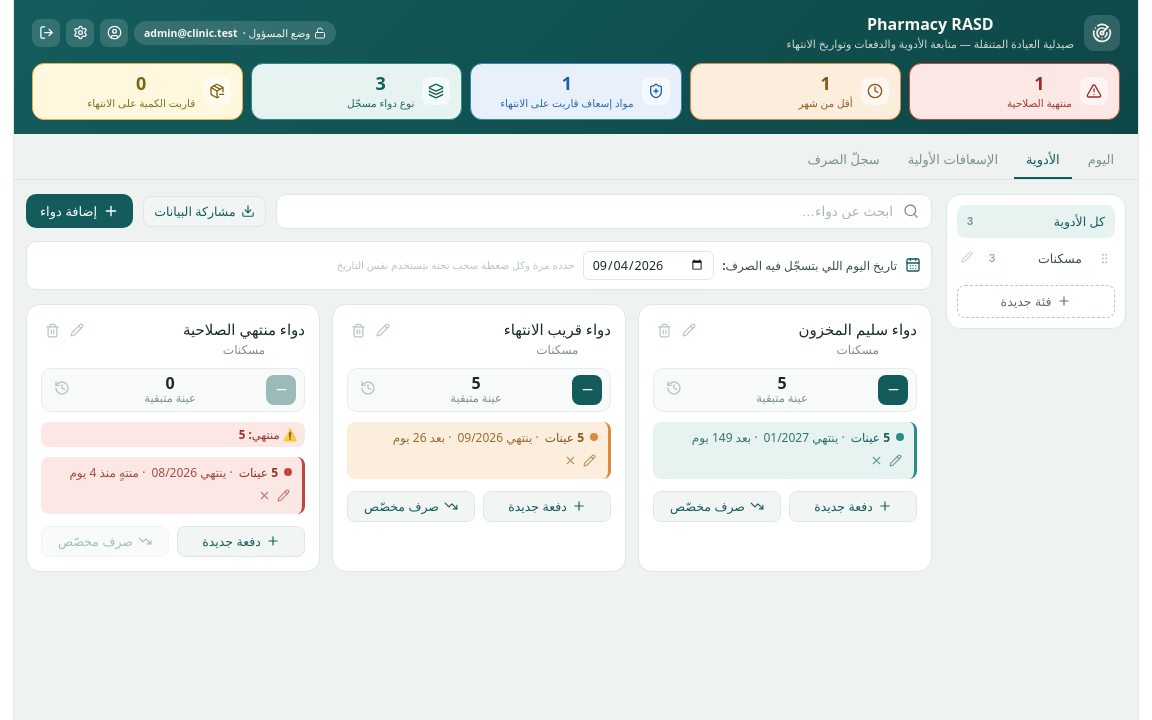
Test: KPI cards — clickable dashboard shortcuts › 'منتهية الصلاحية' opens Medications filtered to medications with expired stock only
Click the button "1 منتهية الصلاحية" at {"x": 1014, "y": 91}, box [909,63,1120,120]
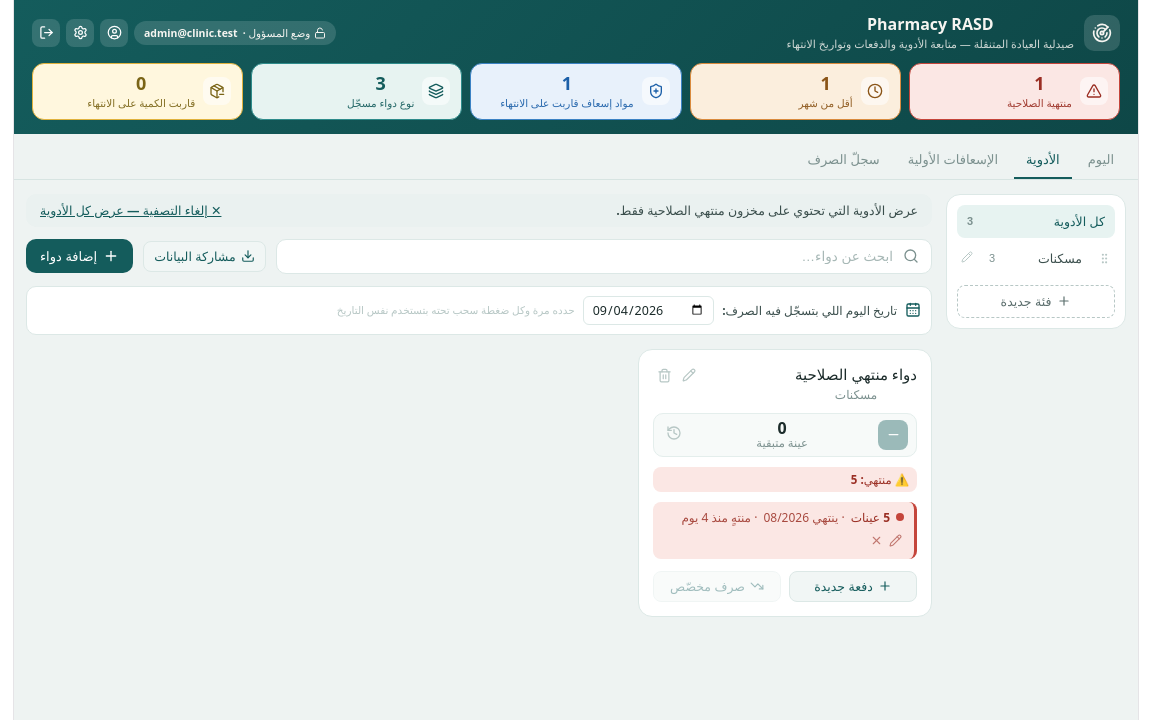
Expected: the text "دواء قريب الانتهاء" is gone
Expected: the text "دواء سليم المخزون" is gone
Expected: the text "عرض الأدوية التي تحتوي على مخزون منتهي الصلاحية فقط." is shown, [616,202,918,219]
